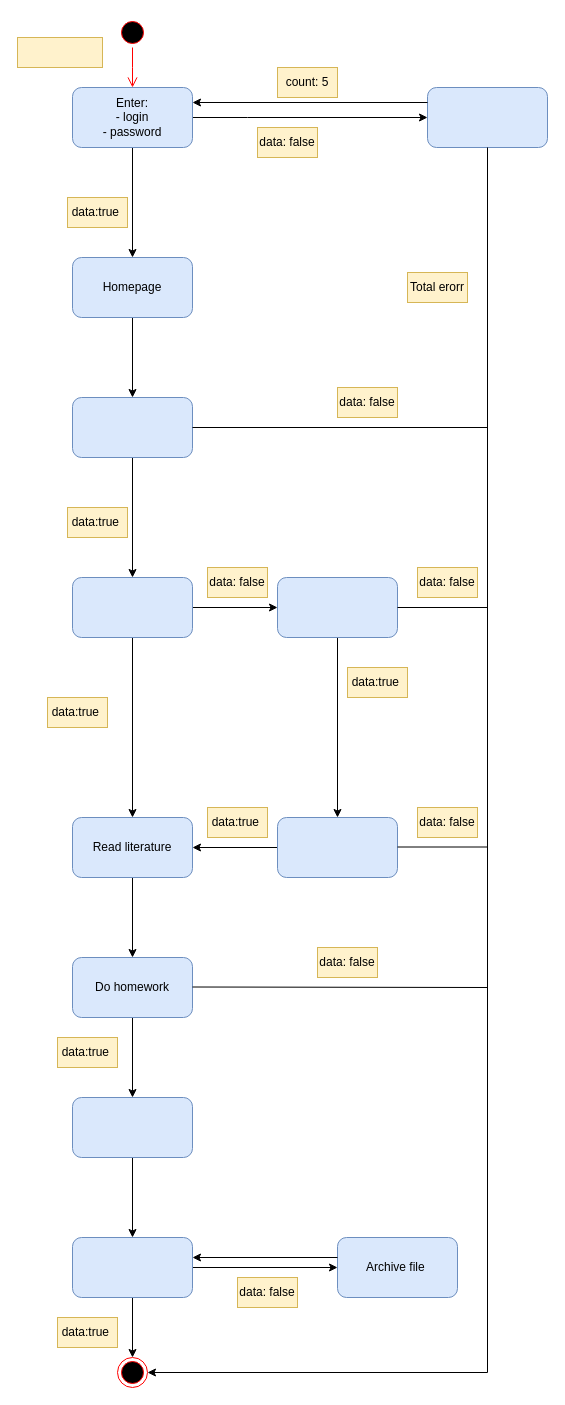
Some shapes in this 565 by 1405 pixel diagram are drawn without their labels. The shapes that lost their labels are listed below. From the top down, each one's centre as x and y in pixels, then its label:
point (59, 52): Go to mystat
point (487, 117): Show erorr
point (132, 427): Dowload hometask
point (132, 607): Dowload literature from lesson
point (337, 607): Open browser
point (337, 847): Search literature from internet
point (132, 1127): Open homepage mystat
point (132, 1267): Dowload homework
